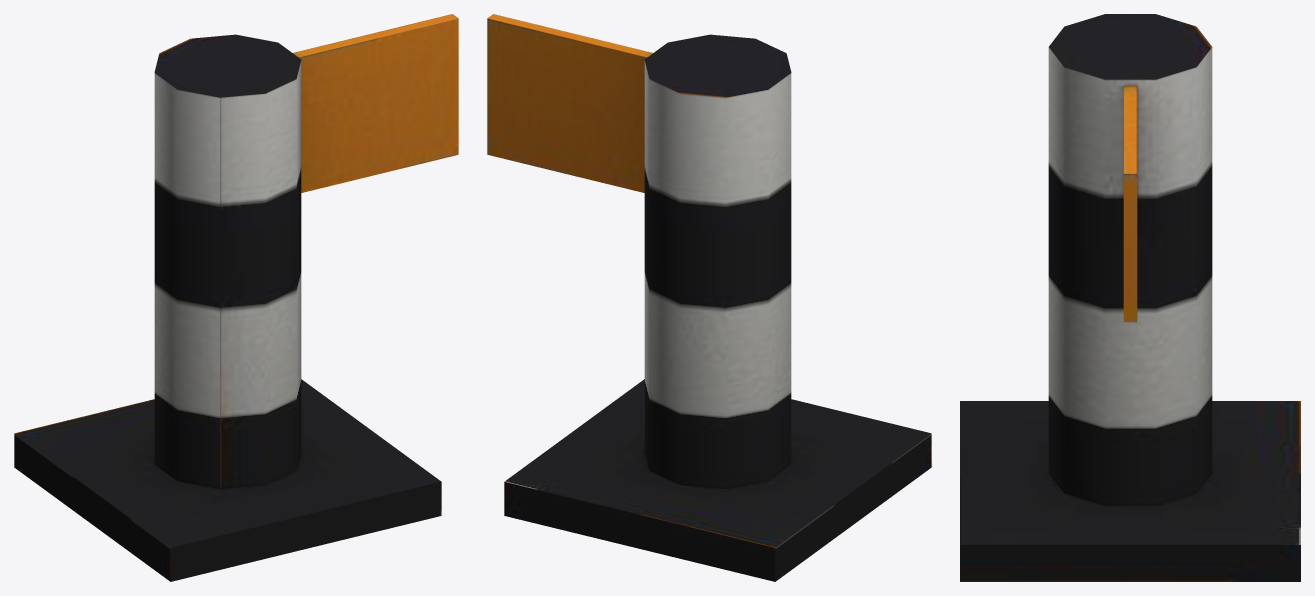
The model's file is baliza_sal.glb.
3 views of the same model, side by side, from view 1: azimuth 30°, elevation 25°; view 2: azimuth 150°, elevation 25°; view 3: azimuth 270°, elevation 25° (orthographic). The views are drawn at different scales.
Parts seen in each view (by area): view 1: baliza_sal; view 2: baliza_sal; view 3: baliza_sal.
Boxes of the visible parts, x1,y1,x2,y2 form: baliza_sal: (14, 14, 458, 581); baliza_sal: (487, 14, 931, 581); baliza_sal: (960, 14, 1300, 581).
Size of the model in its own units: 0.67 by 0.75 by 0.5.
Materials: 1 (1 with a texture image).
